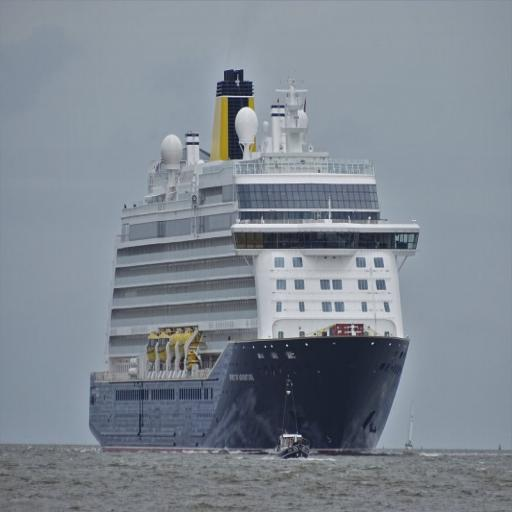cruises: (81, 66, 425, 462)
